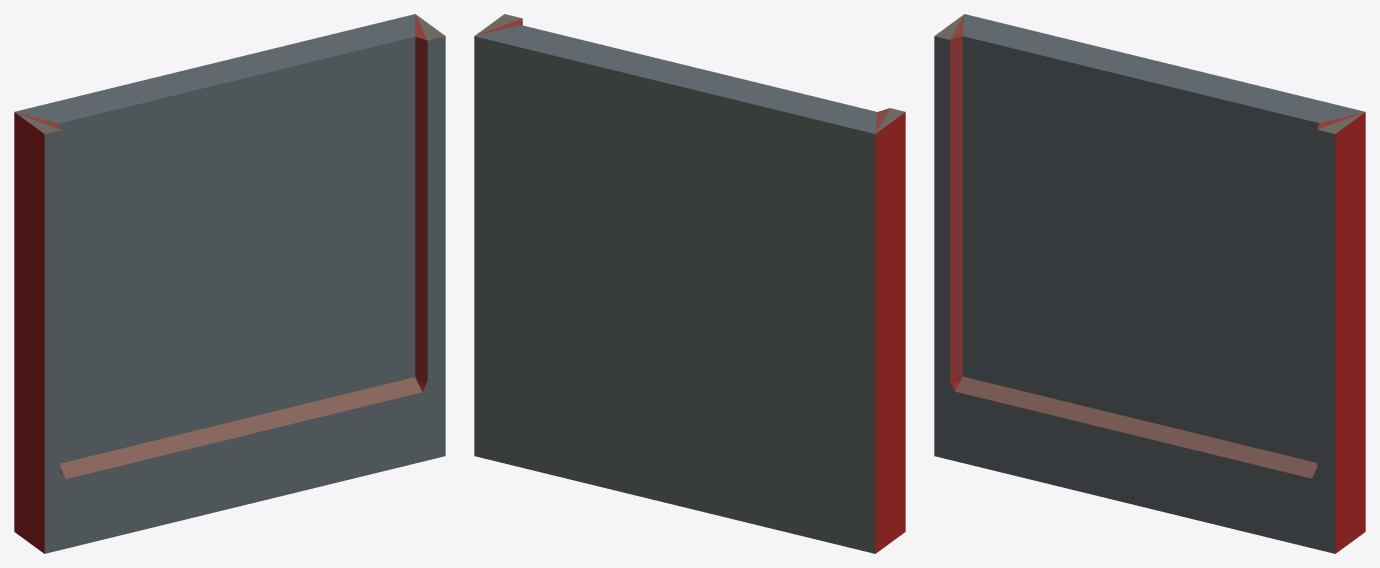
File: DungeonWall.fbx
3 views of the same model, side by side, from view 1: azimuth 30°, elevation 25°; view 2: azimuth 150°, elevation 25°; view 3: azimuth 330°, elevation 25° (orthographic).
Visible parts, largest first — view 1: DungeonWall; view 2: DungeonWall; view 3: DungeonWall.
Part boxes in pixels (bbox=[...]): DungeonWall: bbox=[14, 14, 445, 553]; DungeonWall: bbox=[474, 14, 905, 553]; DungeonWall: bbox=[934, 14, 1365, 553].
Size of the model in its own units: 100 by 100 by 13.1.
